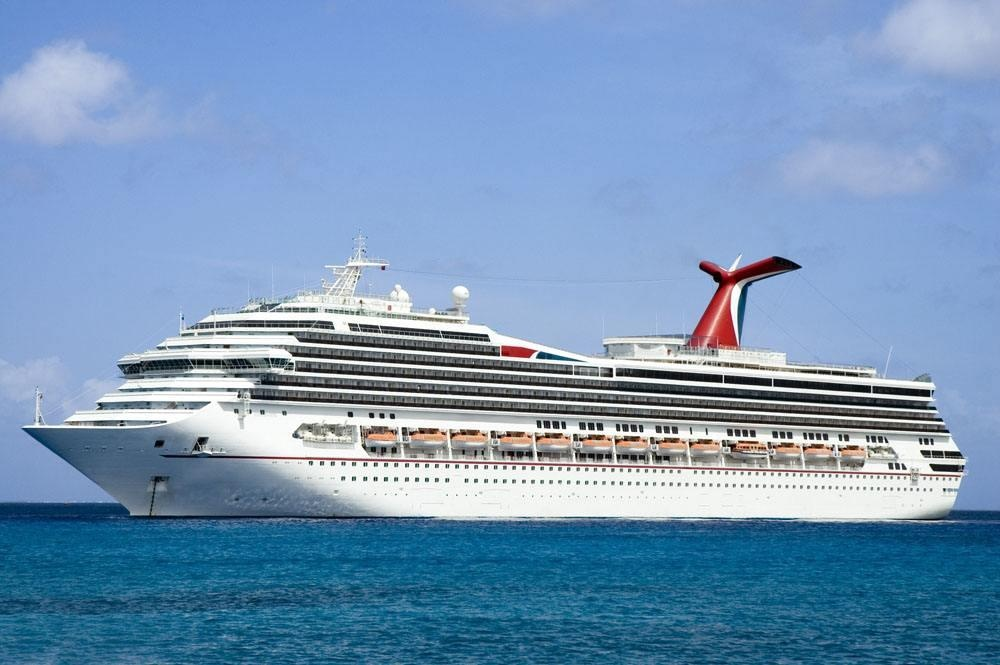youlun: (20, 234, 972, 541)
